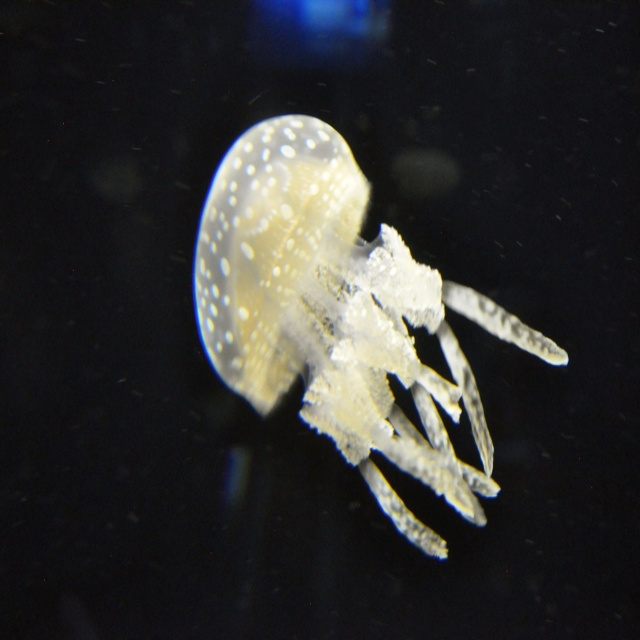Jellyfish: (190, 106, 568, 559)
